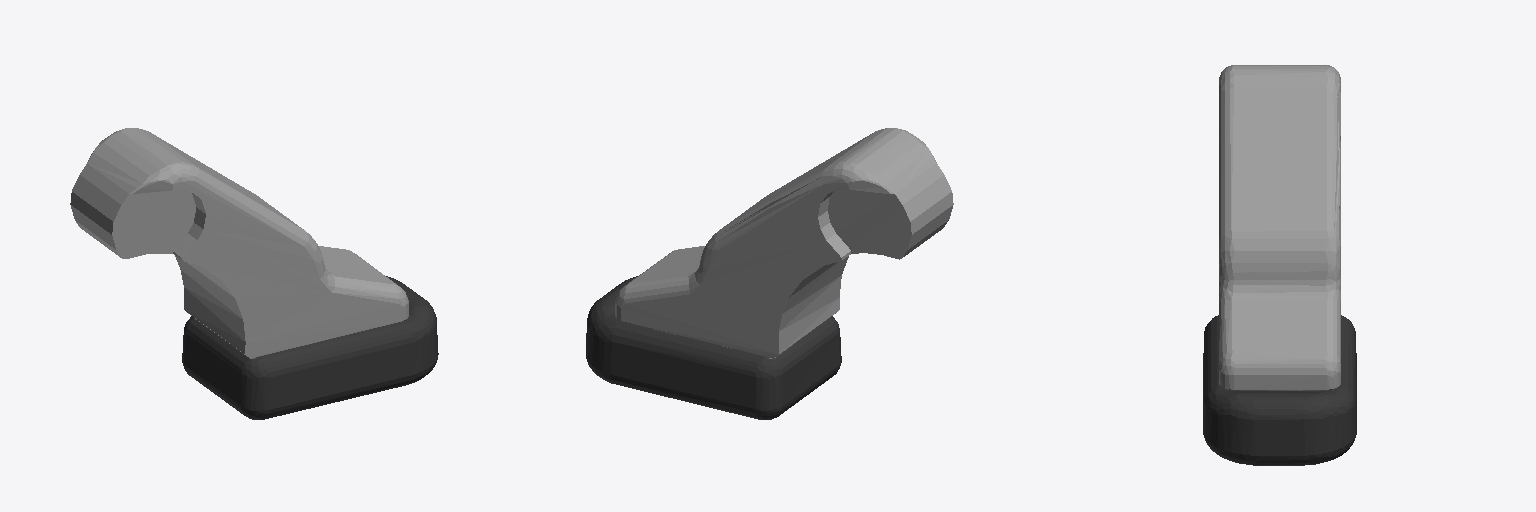
The picture shows the model from 3 angles: view 1: azimuth 30°, elevation 25°; view 2: azimuth 150°, elevation 25°; view 3: azimuth 270°, elevation 25°; orthographic projection.
Parts seen in each view (by area): view 1: SM_finger_tip_MShape; view 2: SM_finger_tip_MShape; view 3: SM_finger_tip_MShape.
Part boxes in pixels (bbox=[...]): SM_finger_tip_MShape: bbox=[70, 128, 438, 419]; SM_finger_tip_MShape: bbox=[586, 128, 953, 419]; SM_finger_tip_MShape: bbox=[1203, 65, 1356, 465].
Size of the model in its own units: 0.0568 by 0.0447 by 0.023.
1 materials, 1 textured.